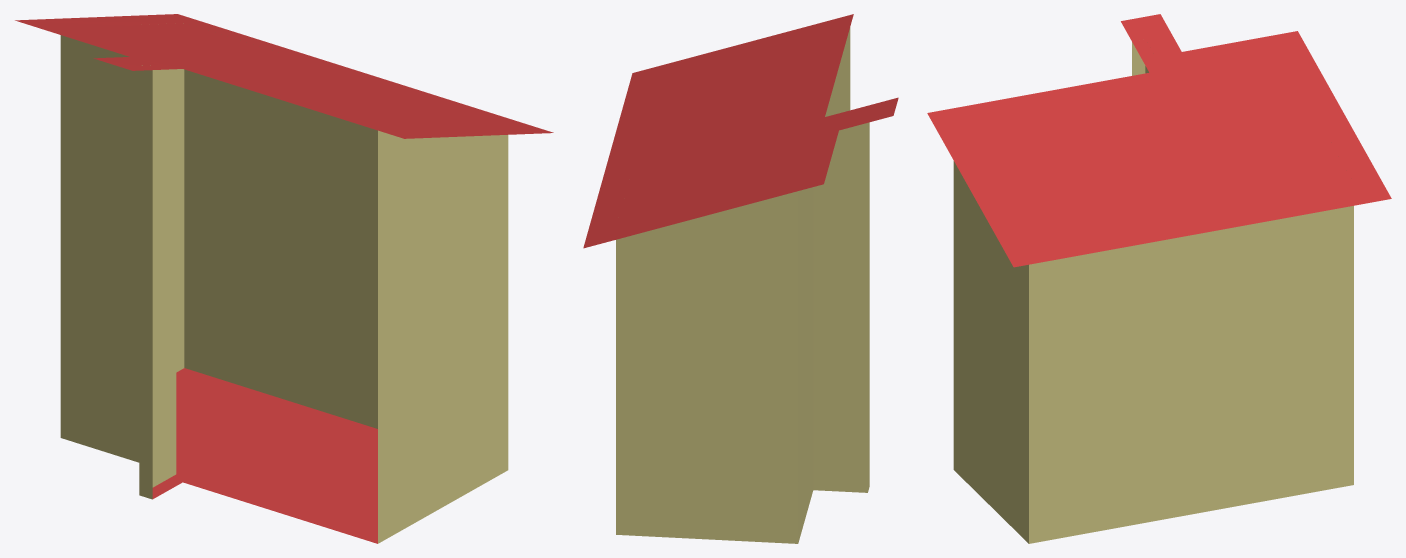
3 views of the same model, side by side, from view 1: azimuth 30°, elevation 25°; view 2: azimuth 150°, elevation 25°; view 3: azimuth 270°, elevation 25° (orthographic). The views are drawn at different scales.
Size of the model in its own units: 6.59 by 8.02 by 7.33.
